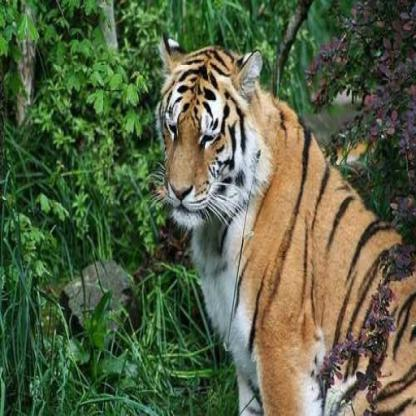Tiger: (133, 33, 415, 415)
